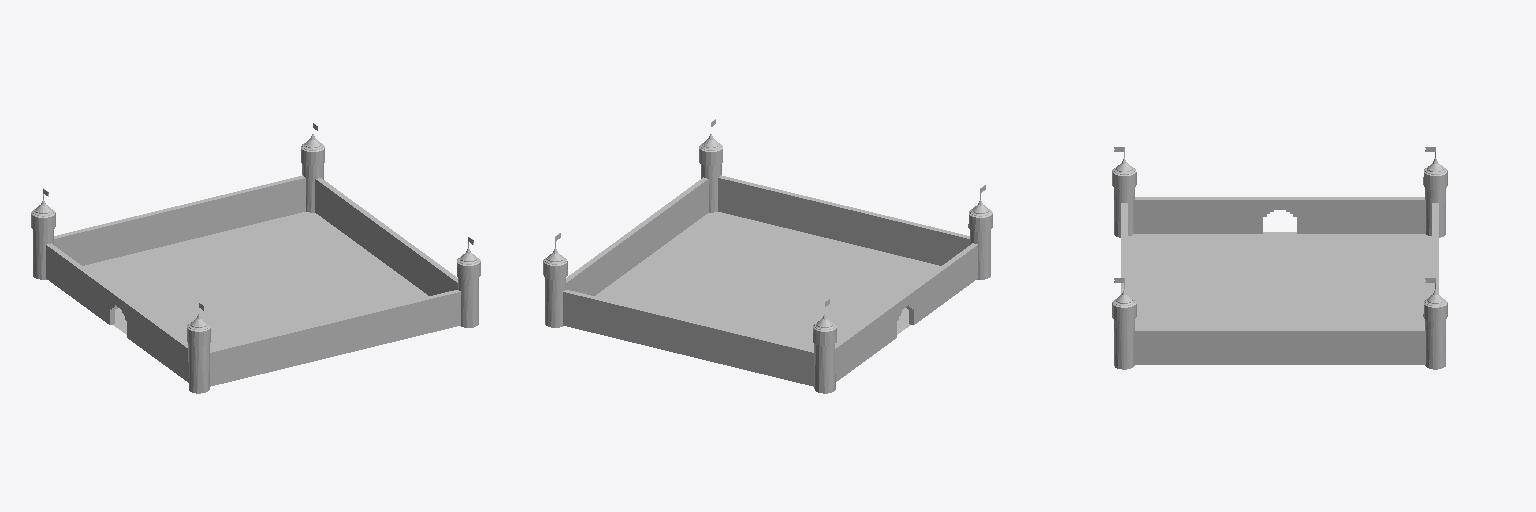
File: town.obj
The picture shows the model from 3 angles: view 1: azimuth 30°, elevation 25°; view 2: azimuth 150°, elevation 25°; view 3: azimuth 270°, elevation 25°; orthographic projection.
Parts seen in each view (by area): view 1: Cube.004_Cube.006, Plane; view 2: Cube.004_Cube.006, Plane; view 3: Plane, Cube.004_Cube.006.
Boxes of the visible parts, box(x1,y1,x2,y2) form: Cube.004_Cube.006: box(31, 123, 480, 393); Plane: box(83, 212, 428, 349); Cube.004_Cube.006: box(543, 119, 992, 393); Plane: box(595, 212, 940, 349); Plane: box(1128, 232, 1431, 328); Cube.004_Cube.006: box(1112, 147, 1447, 369).
Size of the model in its own units: 53.89 by 15.4 by 53.89.